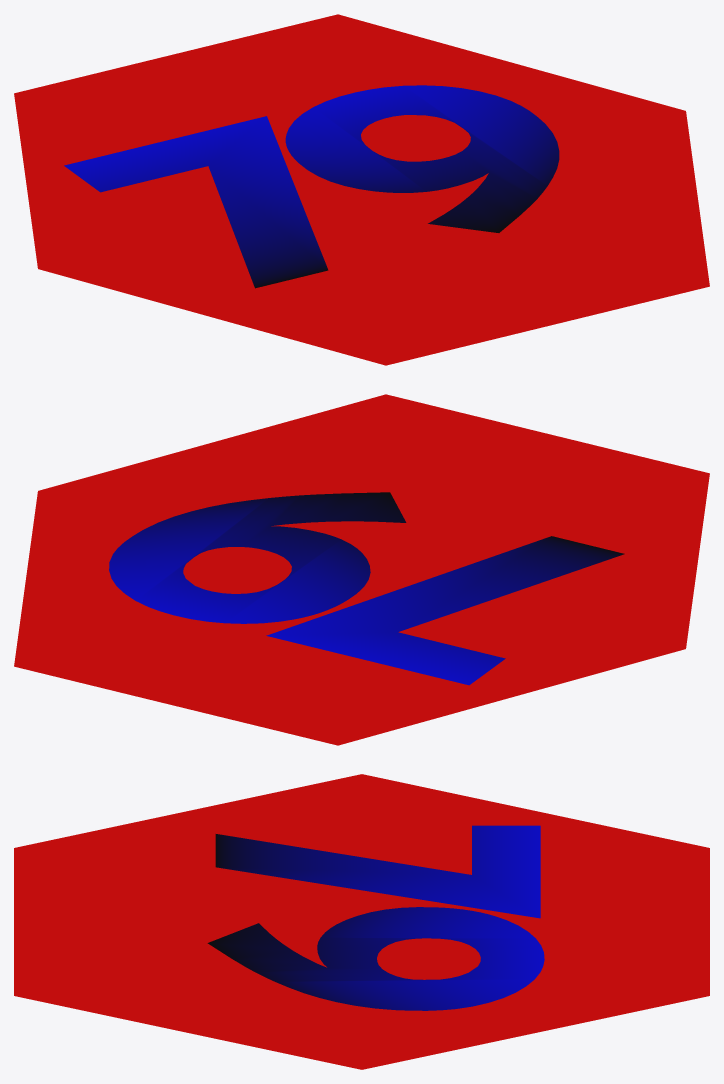
File: SM_Number_79.fbx
3 views of the same model, one above another, from view 1: azimuth 30°, elevation 25°; view 2: azimuth 150°, elevation 25°; view 3: azimuth 270°, elevation 25° (orthographic). The views are drawn at different scales.
Visible parts, largest first — view 1: FBX_OUT; view 2: FBX_OUT; view 3: FBX_OUT.
Part boxes in pixels (box(x1,y1,x2,y2)): FBX_OUT: box(14, 14, 709, 365); FBX_OUT: box(14, 394, 709, 745); FBX_OUT: box(14, 774, 709, 1069).
Size of the model in its own units: 50 by 0.2917 by 49.71.
